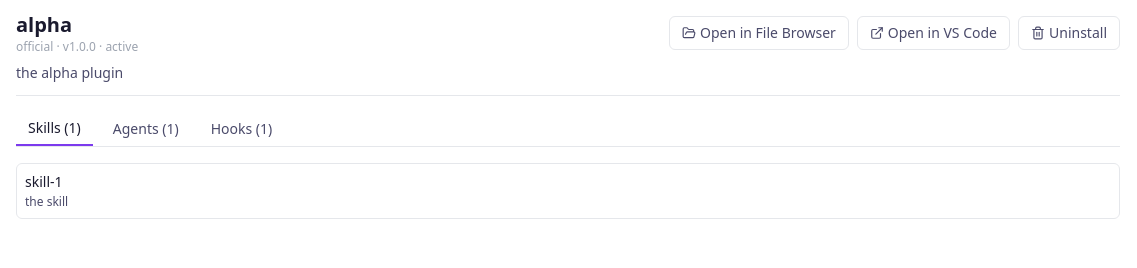
PluginDetailView › Open in VS Code surfaces an error inline when openShell rejects
Step 1. Click the button with test id "open-vscode-btn" → [933, 33], box [857,16,1010,50]
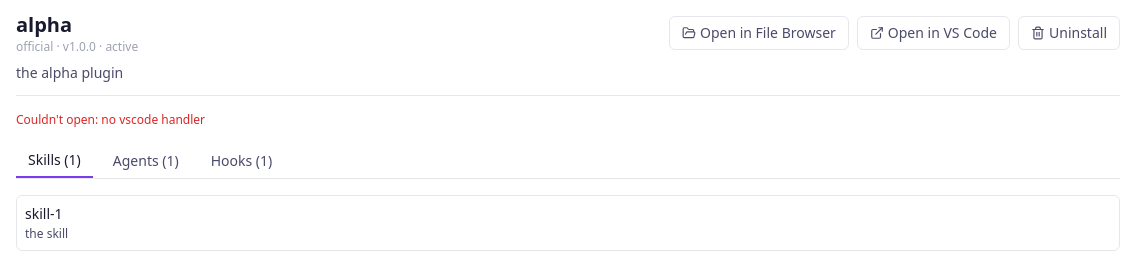
Expected: the message with test id "plugin-open-error" shows "no vscode handler", [101,111,205,128]
